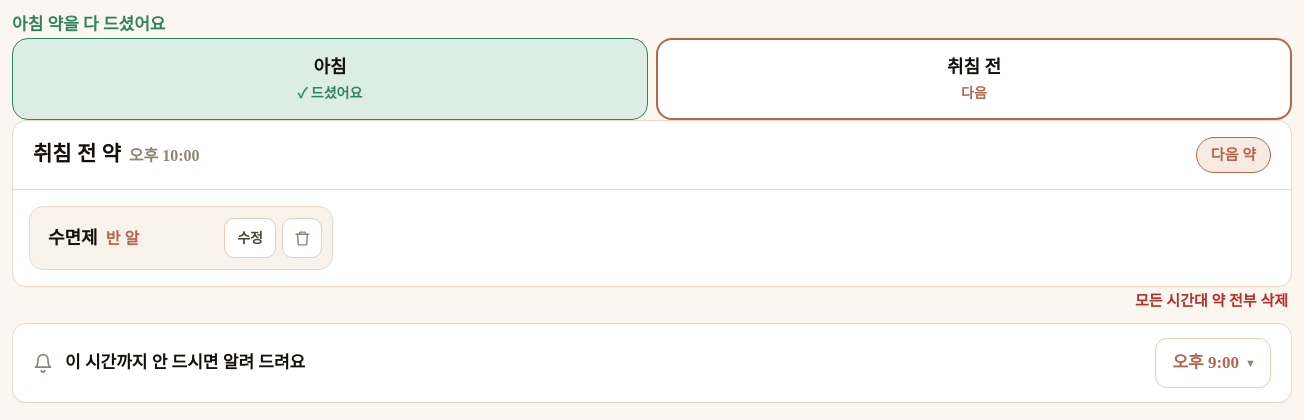
Test: WardMedicationCard (Chrome) › 시간대 칸을 고르면 그 시간대의 약과 상태를 보여 준다
Expected: the button "취침 전 다음" is shown, top-left (656, 38), bottom-right (1292, 120)
Click the button "아침 ✓ 드셨어요" at point(330, 78), box top-left (12, 38), bottom-right (648, 120)
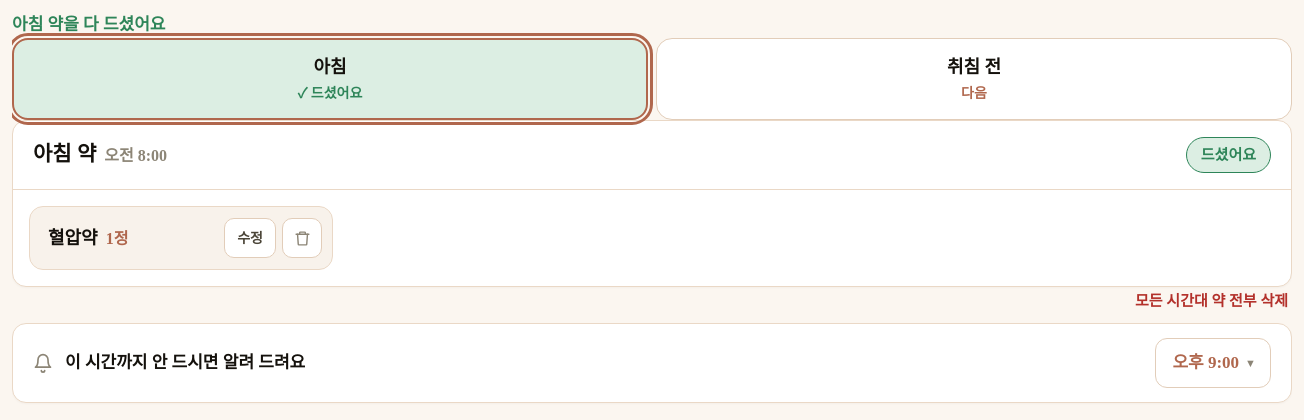
Now the heading "아침 약" shows "오전 8:00", box top-left (104, 147), bottom-right (167, 164)
Now the list named "아침 약 목록" shows "혈압약", box top-left (48, 228), bottom-right (98, 248)
